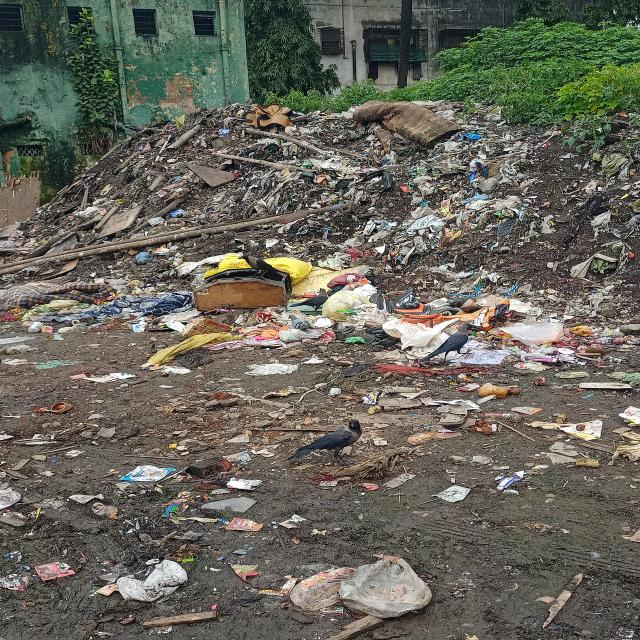garbage: (153, 110, 640, 379), (0, 136, 147, 377)
